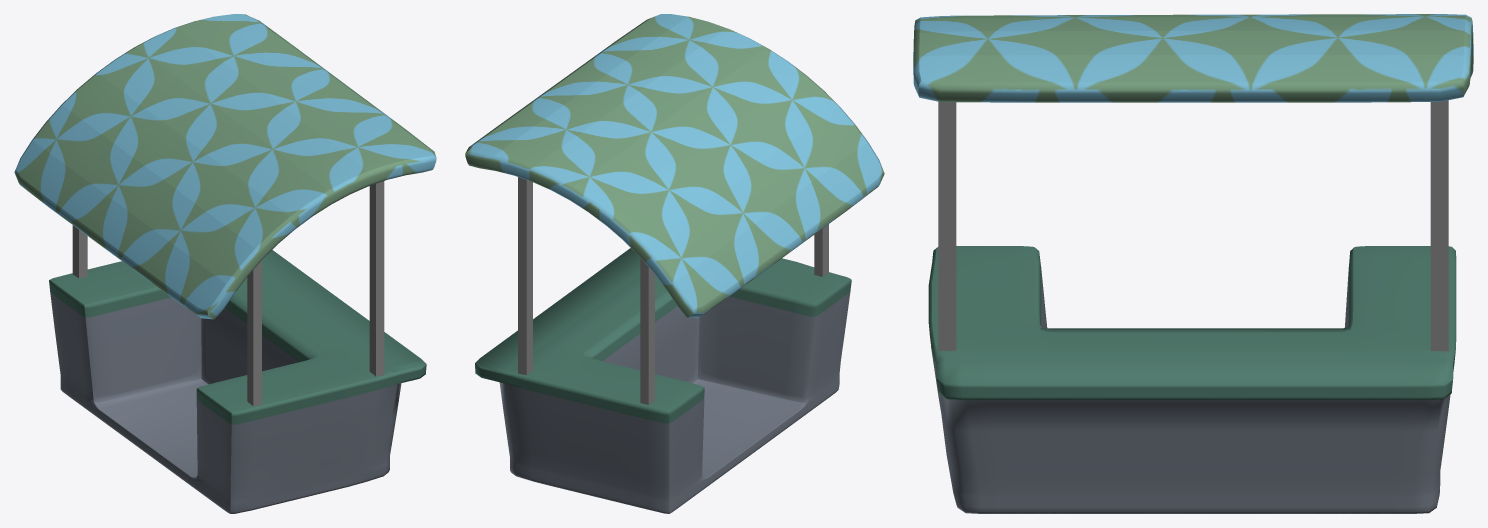
File: Booth 1-1.fbx
3 views of the same model, side by side, from view 1: azimuth 30°, elevation 25°; view 2: azimuth 150°, elevation 25°; view 3: azimuth 270°, elevation 25° (orthographic). The views are drawn at different scales.
Visible parts, largest first — view 1: Cube.005, Cube.009, Cube.007; view 2: Cube.005, Cube.009, Cube.007; view 3: Cube.009, Cube.005, Cube.007.
Boxes of the visible parts, left/top/right/bottom form: Cube.005: left=14, top=14, right=436, bottom=319; Cube.009: left=49, top=250, right=426, bottom=513; Cube.007: left=72, top=181, right=384, bottom=406; Cube.005: left=465, top=14, right=884, bottom=317; Cube.009: left=475, top=248, right=851, bottom=513; Cube.007: left=518, top=177, right=828, bottom=404; Cube.009: left=928, top=246, right=1456, bottom=513; Cube.005: left=913, top=14, right=1473, bottom=102; Cube.007: left=938, top=100, right=1448, bottom=351.
Size of the model in its own units: 1187 by 1556 by 1708.
Materials: 1 (1 with a texture image).
